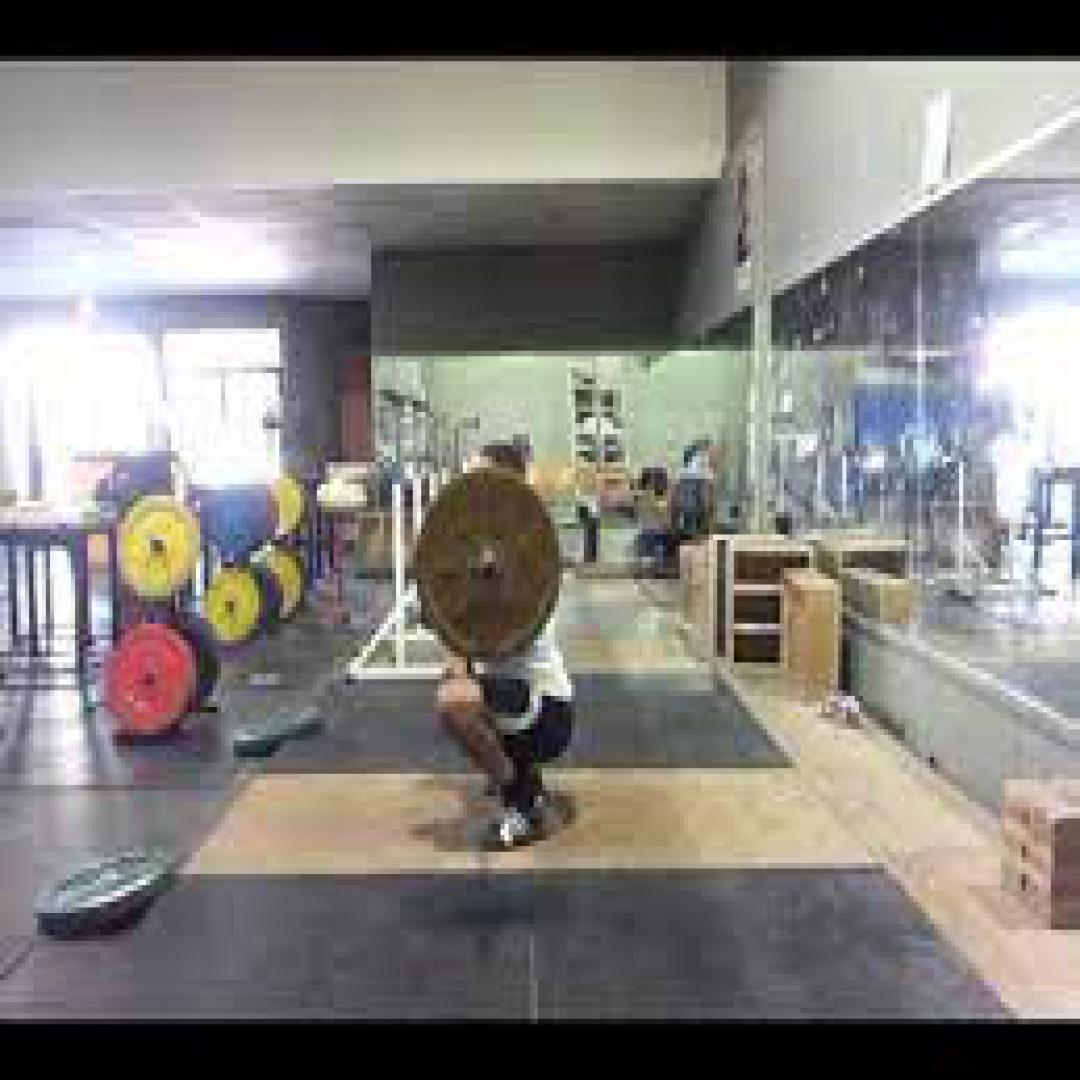Bar: (476, 545, 505, 584)
Barbell: (417, 468, 559, 662)
